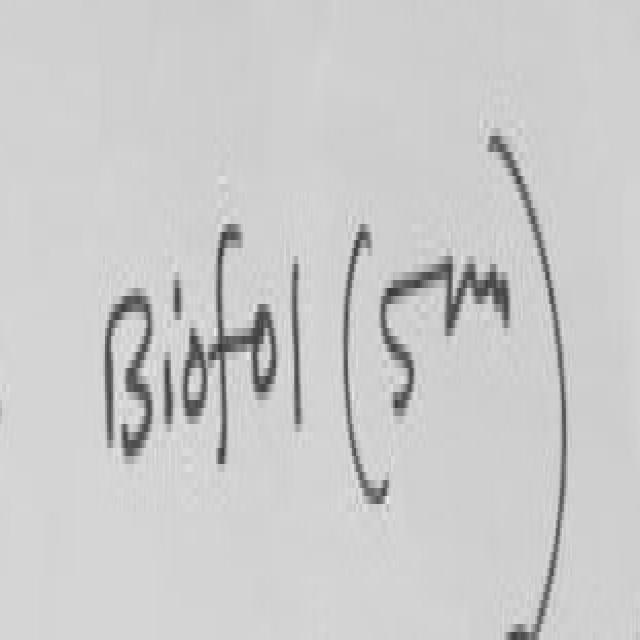5: (384, 274, 419, 412)
B: (108, 288, 152, 452)
f: (210, 224, 245, 460)
i: (165, 352, 173, 420), (173, 272, 181, 316)
l: (291, 256, 303, 420)
m: (429, 247, 503, 332)
o: (183, 328, 208, 412), (253, 312, 276, 388)
